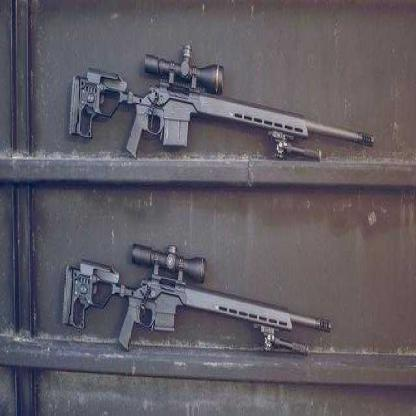Heavy Gun: (69, 45, 375, 161), (63, 242, 332, 356)
